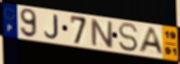7: (70, 14, 88, 46)
9: (19, 8, 38, 39)
A: (137, 27, 166, 57)
J: (44, 14, 60, 40)
N: (89, 17, 115, 50)
S: (117, 21, 140, 53)
